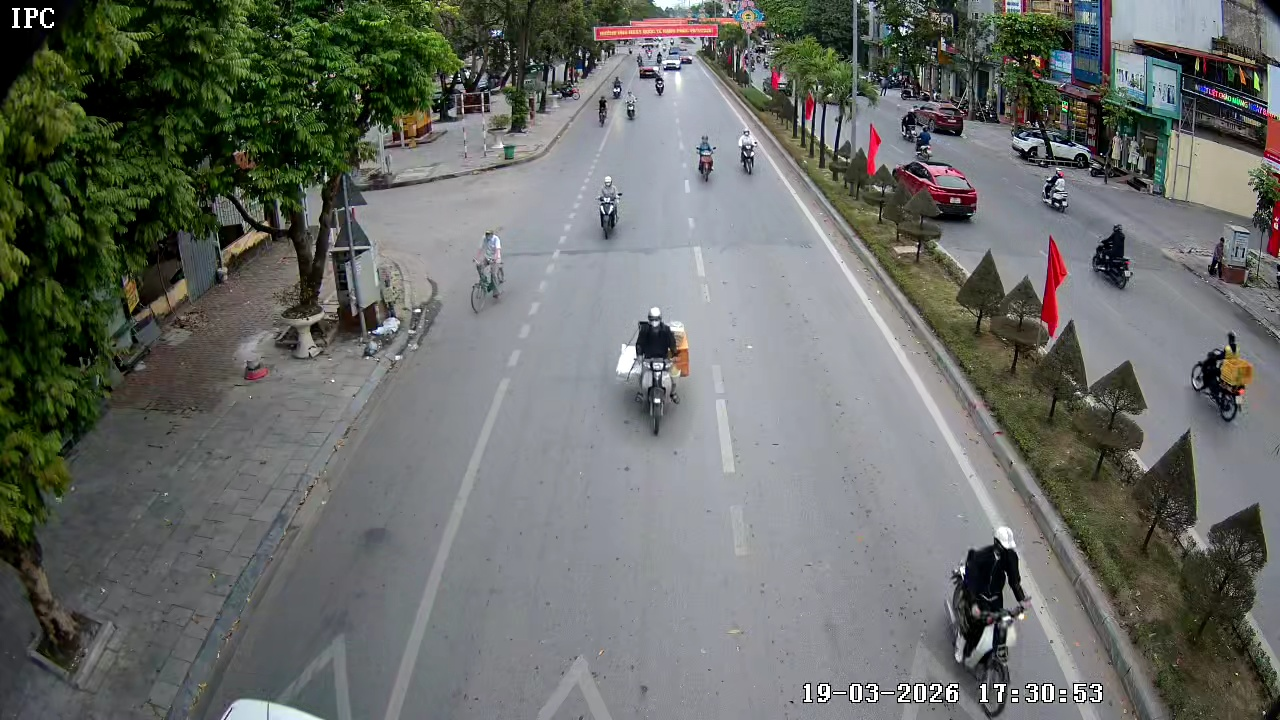bike: (467, 227, 507, 316)
car: (874, 159, 978, 222)
motorbike: (942, 519, 1064, 714), (617, 306, 691, 436), (1189, 330, 1254, 423), (1090, 220, 1135, 291), (594, 174, 624, 241), (692, 132, 721, 184), (736, 128, 763, 177), (625, 90, 641, 123), (656, 72, 668, 101), (612, 76, 624, 97)
